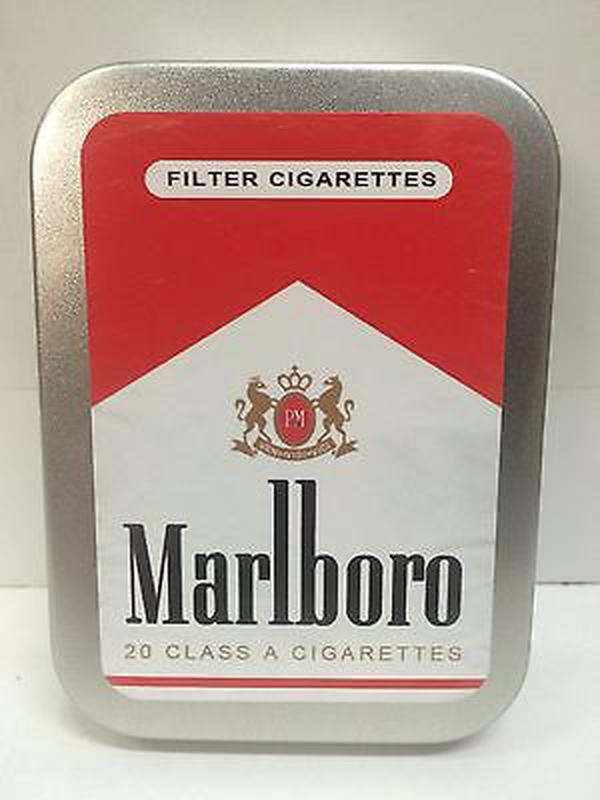marlboro_red: (105, 142, 485, 694)
